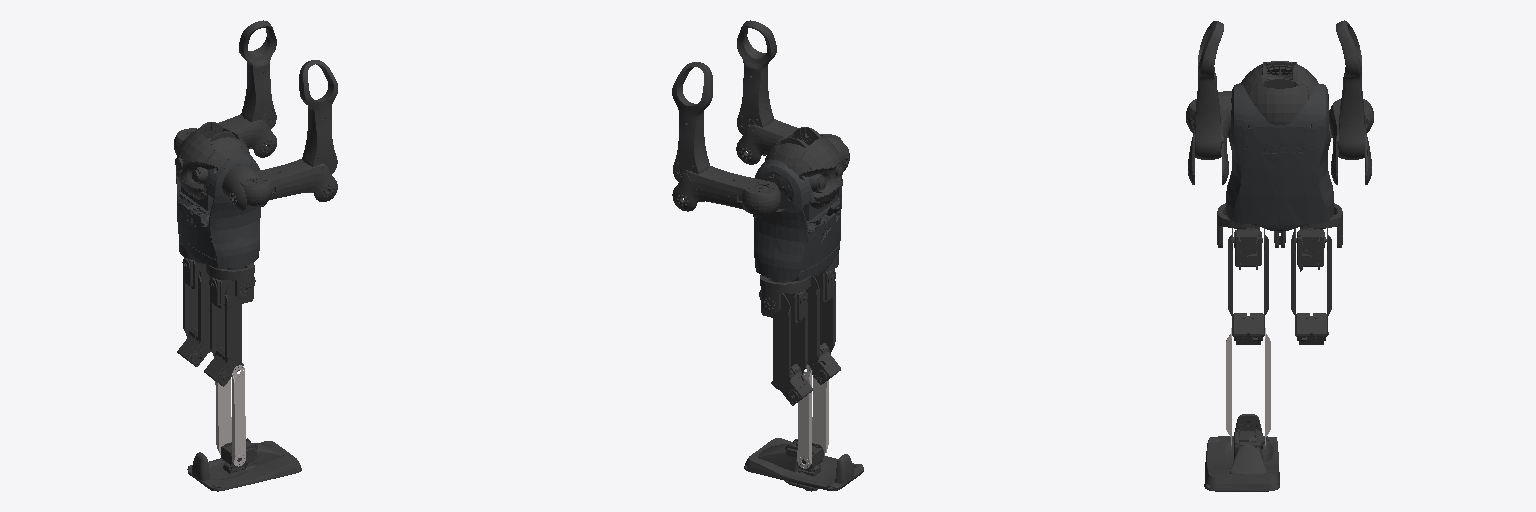
The robot description file, URDF, robot "onshape":
<robot name="onshape">
<link name="torso">
<visual>
<origin xyz="0 0 0" rpy="0 -0 0" />
<geometry>
<mesh filename="torso_visual.stl"/>
</geometry>
<material name="torso_material">
<color rgba="0.277513 0.284814 0.292115 1.0"/>
</material>
</visual>
<collision>
<origin xyz="0 0 0" rpy="0 -0 0" />
<geometry>
<mesh filename="torso_collision.stl"/>
</geometry>
<material name="torso_material">
<color rgba="0.5 0.5 0.5 1.0"/>
</material>
</collision>
<inertial>
<origin xyz="-0.000640019 -4.78299e-05 0.106034" rpy="0 0 0"/>
<mass value="2.92465" />
<inertia ixx="0.018013" ixy="-1.32888e-06"  ixz="-0.00120893" iyy="0.0153572" iyz="-3.07782e-07" izz="0.00887623" />
</inertial>
</link>

<link name="left_hip_yaw">
<visual>
<origin xyz="0 0 0" rpy="0 -0 0" />
<geometry>
<mesh filename="left_hip_yaw_visual.stl"/>
</geometry>
<material name="left_hip_yaw_material">
<color rgba="0.286275 0.286275 0.286275 1.0"/>
</material>
</visual>
<collision>
<origin xyz="0 0 0" rpy="0 -0 0" />
<geometry>
<mesh filename="left_hip_yaw_collision.stl"/>
</geometry>
<material name="left_hip_yaw_material">
<color rgba="0.5 0.5 0.5 1.0"/>
</material>
</collision>
<inertial>
<origin xyz="0.00894798 -0.0021828 -0.0247563" rpy="0 0 0"/>
<mass value="0.0594023" />
<inertia ixx="0.000103641" ixy="1.01414e-07"  ixz="-1.50388e-06" iyy="5.24124e-05" iyz="-4.66978e-07" izz="0.000118627" />
</inertial>
</link>

<link name="left_hip_roll">
<visual>
<origin xyz="0 0 0" rpy="0 -0 0" />
<geometry>
<mesh filename="left_hip_roll_visual.stl"/>
</geometry>
<material name="left_hip_roll_material">
<color rgba="0.286275 0.286275 0.286275 1.0"/>
</material>
</visual>
<collision>
<origin xyz="0 0 0" rpy="0 -0 0" />
<geometry>
<mesh filename="left_hip_roll_collision.stl"/>
</geometry>
<material name="left_hip_roll_material">
<color rgba="0.5 0.5 0.5 1.0"/>
</material>
</collision>
<inertial>
<origin xyz="0.015733 -0.000686158 -0.0217073" rpy="0 0 0"/>
<mass value="0.395953" />
<inertia ixx="0.000292243" ixy="2.4268e-06"  ixz="-2.43432e-06" iyy="0.000355995" iyz="5.61134e-06" izz="0.000169652" />
</inertial>
</link>

<link name="left_upper_leg">
<visual>
<origin xyz="0 0 0" rpy="0 -0 0" />
<geometry>
<mesh filename="left_upper_leg_visual.stl"/>
</geometry>
<material name="left_upper_leg_material">
<color rgba="0.286275 0.286275 0.286275 1.0"/>
</material>
</visual>
<collision>
<origin xyz="0 0 0" rpy="0 -0 0" />
<geometry>
<mesh filename="left_upper_leg_collision.stl"/>
</geometry>
<material name="left_upper_leg_material">
<color rgba="0.5 0.5 0.5 1.0"/>
</material>
</collision>
<inertial>
<origin xyz="0.184283 0.0137441 0.000560875" rpy="0 0 0"/>
<mass value="0.164996" />
<inertia ixx="5.7507e-05" ixy="-1.69983e-05"  ixz="-1.58256e-06" iyy="6.53622e-05" iyz="-1.26445e-06" izz="6.23689e-05" />
</inertial>
</link>

<link name="left_lower_leg">
<visual>
<origin xyz="0 0 0" rpy="0 -0 0" />
<geometry>
<mesh filename="left_lower_leg_visual.stl"/>
</geometry>
<material name="left_lower_leg_material">
<color rgba="0.737255 0.721569 0.717647 1.0"/>
</material>
</visual>
<collision>
<origin xyz="0 0 0" rpy="0 -0 0" />
<geometry>
<mesh filename="left_lower_leg_collision.stl"/>
</geometry>
<material name="left_lower_leg_material">
<color rgba="0.5 0.5 0.5 1.0"/>
</material>
</collision>
<inertial>
<origin xyz="0.1001 0.00388186 -1.61259e-08" rpy="0 0 0"/>
<mass value="0.0893011" />
<inertia ixx="9.01254e-05" ixy="1.57184e-09"  ixz="-7.87158e-11" iyy="0.000408951" iyz="1.16101e-11" izz="0.0003363" />
</inertial>
</link>

<link name="left_ankle">
<visual>
<origin xyz="0 0 0" rpy="0 -0 0" />
<geometry>
<mesh filename="left_ankle_visual.stl"/>
</geometry>
<material name="left_ankle_material">
<color rgba="0.286275 0.286275 0.286275 1.0"/>
</material>
</visual>
<collision>
<origin xyz="0 0 0" rpy="0 -0 0" />
<geometry>
<mesh filename="left_ankle_collision.stl"/>
</geometry>
<material name="left_ankle_material">
<color rgba="0.5 0.5 0.5 1.0"/>
</material>
</collision>
<inertial>
<origin xyz="0.0219762 0.015733 0.000512596" rpy="0 0 0"/>
<mass value="0.329993" />
<inertia ixx="0.000141335" ixy="2.0288e-06"  ixz="3.69044e-06" iyy="0.000247382" iyz="-2.02253e-06" izz="0.000300569" />
</inertial>
</link>

<link name="left_foot">
<visual>
<origin xyz="0 0 0" rpy="0 -0 0" />
<geometry>
<mesh filename="left_foot_visual.stl"/>
</geometry>
<material name="left_foot_material">
<color rgba="0.286275 0.286275 0.286275 1.0"/>
</material>
</visual>
<collision>
<origin xyz="0 0 0" rpy="0 -0 0" />
<geometry>
<mesh filename="left_foot_collision.stl"/>
</geometry>
<material name="left_foot_material">
<color rgba="0.5 0.5 0.5 1.0"/>
</material>
</collision>
<inertial>
<origin xyz="0.0248226 0.00798542 0.033284" rpy="0 0 0"/>
<mass value="0.245581" />
<inertia ixx="0.00134722" ixy="-9.73697e-06"  ixz="2.7382e-08" iyy="0.00108383" iyz="-1.34065e-05" izz="0.000332029" />
</inertial>
</link>

<link name="left_foot_base">
<visual>
<origin xyz="0 0 0" rpy="0 -0 0" />
<geometry>
<mesh filename="left_foot_base_visual.stl"/>
</geometry>
<material name="left_foot_base_material">
<color rgba="0.5 0.5 0.5 1.0"/>
</material>
</visual>
<collision>
<origin xyz="0 0 0" rpy="0 -0 0" />
<geometry>
<mesh filename="left_foot_base_collision.stl"/>
</geometry>
<material name="left_foot_base_material">
<color rgba="0.5 0.5 0.5 1.0"/>
</material>
</collision>
<inertial>
<origin xyz="0 0 0" rpy="0 0 0"/>
<mass value="0" />
<inertia ixx="0" ixy="0"  ixz="0" iyy="0" iyz="0" izz="0" />
</inertial>
</link>

<joint name="left_foot_base" type="fixed">
<origin xyz="0.0360246 2.77556e-17 1.30104e-18" rpy="8.86985e-31 -1.5708 0" />
<parent link="left_foot" />
<child link="left_foot_base" />
<axis xyz="0 0 1"/>
<limit effort="1.5" velocity="22" />
<joint_properties friction="0.0"/>
</joint>

<joint name="left_ankle_roll" type="revolute">
<origin xyz="4.34742e-09 4.58116e-10 -3.08702e-09" rpy="1.5708 3.11019e-14 -1.5708" />
<parent link="left_ankle" />
<child link="left_foot" />
<axis xyz="0 0 1"/>
<limit effort="1.5" velocity="22" lower="-3.14159" upper="3.14159"/>
<joint_properties friction="0.0"/>
</joint>

<joint name="left_ankle_pitch" type="revolute">
<origin xyz="0.200203 -3.25261e-17 2.27963e-09" rpy="4.2823e-15 8.25556e-15 1.5708" />
<parent link="left_lower_leg" />
<child link="left_ankle" />
<axis xyz="0 0 1"/>
<limit effort="1.5" velocity="22" lower="-3.14159" upper="3.14159"/>
<joint_properties friction="0.0"/>
</joint>

<joint name="left_knee_pitch" type="revolute">
<origin xyz="0.196593 0.023541 -4.85723e-17" rpy="-2.39295e-17 2.00368e-15 -0.00872665" />
<parent link="left_upper_leg" />
<child link="left_lower_leg" />
<axis xyz="0 0 1"/>
<limit effort="1.5" velocity="22" lower="-3.14159" upper="3.14159"/>
<joint_properties friction="0.0"/>
</joint>

<joint name="left_hip_pitch" type="revolute">
<origin xyz="0 1.38778e-17 6.93889e-18" rpy="-1.5708 -9.99201e-16 9.62078e-15" />
<parent link="left_hip_roll" />
<child link="left_upper_leg" />
<axis xyz="0 0 1"/>
<limit effort="1.5" velocity="22" lower="-3.14159" upper="3.14159"/>
<joint_properties friction="0.0"/>
</joint>

<joint name="left_hip_roll" type="revolute">
<origin xyz="6.93889e-18 0.0221332 -0.0545" rpy="-1.5708 1.5708 0" />
<parent link="left_hip_yaw" />
<child link="left_hip_roll" />
<axis xyz="0 0 1"/>
<limit effort="1.5" velocity="22" lower="-3.14159" upper="3.14159"/>
<joint_properties friction="0.0"/>
</joint>

<joint name="left_hip_yaw" type="revolute">
<origin xyz="0 0.055 0" rpy="1.00616e-25 -1.69834e-26 -1.5708" />
<parent link="torso" />
<child link="left_hip_yaw" />
<axis xyz="0 0 1"/>
<limit effort="1.5" velocity="22" lower="-3.14159" upper="3.14159"/>
<joint_properties friction="0.0"/>
</joint>

<link name="right_hip_yaw">
<visual>
<origin xyz="0 0 0" rpy="0 -0 0" />
<geometry>
<mesh filename="right_hip_yaw_visual.stl"/>
</geometry>
<material name="right_hip_yaw_material">
<color rgba="0.286275 0.286275 0.286275 1.0"/>
</material>
</visual>
<collision>
<origin xyz="0 0 0" rpy="0 -0 0" />
<geometry>
<mesh filename="right_hip_yaw_collision.stl"/>
</geometry>
<material name="right_hip_yaw_material">
<color rgba="0.5 0.5 0.5 1.0"/>
</material>
</collision>
<inertial>
<origin xyz="0.0089479 0.00218277 -0.0247564" rpy="0 0 0"/>
<mass value="0.0594022" />
<inertia ixx="0.000103641" ixy="-1.01073e-07"  ixz="-1.50417e-06" iyy="5.24117e-05" iyz="4.67163e-07" izz="0.000118626" />
</inertial>
</link>

<link name="right_hip_roll">
<visual>
<origin xyz="0 0 0" rpy="0 -0 0" />
<geometry>
<mesh filename="right_hip_roll_visual.stl"/>
</geometry>
<material name="right_hip_roll_material">
<color rgba="0.286275 0.286275 0.286275 1.0"/>
</material>
</visual>
<collision>
<origin xyz="0 0 0" rpy="0 -0 0" />
<geometry>
<mesh filename="right_hip_roll_collision.stl"/>
</geometry>
<material name="right_hip_roll_material">
<color rgba="0.5 0.5 0.5 1.0"/>
</material>
</collision>
<inertial>
<origin xyz="0.015733 -0.000232251 -0.0218286" rpy="0 0 0"/>
<mass value="0.395953" />
<inertia ixx="0.000294312" ixy="-2.43432e-06"  ixz="-2.4268e-06" iyy="0.000358213" iyz="1.97634e-06" izz="0.000169504" />
</inertial>
</link>

<link name="right_upper_leg">
<visual>
<origin xyz="0 0 0" rpy="0 -0 0" />
<geometry>
<mesh filename="right_upper_leg_visual.stl"/>
</geometry>
<material name="right_upper_leg_material">
<color rgba="0.286275 0.286275 0.286275 1.0"/>
</material>
</visual>
<collision>
<origin xyz="0 0 0" rpy="0 -0 0" />
<geometry>
<mesh filename="right_upper_leg_collision.stl"/>
</geometry>
<material name="right_upper_leg_material">
<color rgba="0.5 0.5 0.5 1.0"/>
</material>
</collision>
<inertial>
<origin xyz="0.184283 0.0137441 0.00101087" rpy="0 0 0"/>
<mass value="0.164996" />
<inertia ixx="5.7507e-05" ixy="-1.69983e-05"  ixz="-1.58256e-06" iyy="6.53622e-05" iyz="-1.26445e-06" izz="6.23689e-05" />
</inertial>
</link>

<link name="right_lower_leg">
<visual>
<origin xyz="0 0 0" rpy="0 -0 0" />
<geometry>
<mesh filename="right_lower_leg_visual.stl"/>
</geometry>
<material name="right_lower_leg_material">
<color rgba="0.737255 0.721569 0.717647 1.0"/>
</material>
</visual>
<collision>
<origin xyz="0 0 0" rpy="0 -0 0" />
<geometry>
<mesh filename="right_lower_leg_collision.stl"/>
</geometry>
<material name="right_lower_leg_material">
<color rgba="0.5 0.5 0.5 1.0"/>
</material>
</collision>
<inertial>
<origin xyz="0.100103 0.00388186 1.61259e-08" rpy="0 0 0"/>
<mass value="0.0893011" />
<inertia ixx="9.01254e-05" ixy="-1.57184e-09"  ixz="-7.87158e-11" iyy="0.000408951" iyz="-1.16101e-11" izz="0.0003363" />
</inertial>
</link>

<link name="right_ankle">
<visual>
<origin xyz="0 0 0" rpy="0 -0 0" />
<geometry>
<mesh filename="right_ankle_visual.stl"/>
</geometry>
<material name="right_ankle_material">
<color rgba="0.286275 0.286275 0.286275 1.0"/>
</material>
</visual>
<collision>
<origin xyz="0 0 0" rpy="0 -0 0" />
<geometry>
<mesh filename="right_ankle_collision.stl"/>
</geometry>
<material name="right_ankle_material">
<color rgba="0.5 0.5 0.5 1.0"/>
</material>
</collision>
<inertial>
<origin xyz="0.0219762 -0.015733 -0.000512596" rpy="0 0 0"/>
<mass value="0.329993" />
<inertia ixx="0.000141335" ixy="-2.0288e-06"  ixz="-3.69044e-06" iyy="0.000247382" iyz="-2.02253e-06" izz="0.000300569" />
</inertial>
</link>

<link name="right_foot">
<visual>
<origin xyz="0 0 0" rpy="0 -0 0" />
<geometry>
<mesh filename="right_foot_visual.stl"/>
</geometry>
<material name="right_foot_material">
<color rgba="0.286275 0.286275 0.286275 1.0"/>
</material>
</visual>
<collision>
<origin xyz="0 0 0" rpy="0 -0 0" />
<geometry>
<mesh filename="right_foot_collision.stl"/>
</geometry>
<material name="right_foot_material">
<color rgba="0.5 0.5 0.5 1.0"/>
</material>
</collision>
<inertial>
<origin xyz="0.024823 -0.00798676 0.0332808" rpy="0 0 0"/>
<mass value="0.245567" />
<inertia ixx="0.00134712" ixy="9.73589e-06"  ixz="2.22656e-08" iyy="0.00108376" iyz="1.34039e-05" izz="0.000331997" />
</inertial>
</link>

<link name="right_foot_base">
<visual>
<origin xyz="0 0 0" rpy="0 -0 0" />
<geometry>
<mesh filename="right_foot_base_visual.stl"/>
</geometry>
<material name="right_foot_base_material">
<color rgba="0.5 0.5 0.5 1.0"/>
</material>
</visual>
<collision>
<origin xyz="0 0 0" rpy="0 -0 0" />
<geometry>
<mesh filename="right_foot_base_collision.stl"/>
</geometry>
<material name="right_foot_base_material">
<color rgba="0.5 0.5 0.5 1.0"/>
</material>
</collision>
<inertial>
<origin xyz="0 0 0" rpy="0 0 0"/>
<mass value="0" />
<inertia ixx="0" ixy="0"  ixz="0" iyy="0" iyz="0" izz="0" />
</inertial>
</link>

<joint name="right_foot_base" type="fixed">
<origin xyz="0.0360246 1.38778e-17 6.93889e-18" rpy="1.91535e-30 -1.5708 0" />
<parent link="right_foot" />
<child link="right_foot_base" />
<axis xyz="0 0 1"/>
<limit effort="1.5" velocity="22" />
<joint_properties friction="0.0"/>
</joint>

<joint name="right_ankle_roll" type="revolute">
<origin xyz="4.34741e-09 -4.58126e-10 3.08702e-09" rpy="-1.5708 -1.2536e-14 1.5708" />
<parent link="right_ankle" />
<child link="right_foot" />
<axis xyz="0 0 1"/>
<limit effort="1.5" velocity="22" lower="-3.14159" upper="3.14159"/>
<joint_properties friction="0.0"/>
</joint>

<joint name="right_ankle_pitch" type="revolute">
<origin xyz="0.200203 3.29597e-17 2.27963e-09" rpy="3.14159 1.13004e-15 1.5708" />
<parent link="right_lower_leg" />
<child link="right_ankle" />
<axis xyz="0 0 1"/>
<limit effort="1.5" velocity="22" lower="-3.14159" upper="3.14159"/>
<joint_properties friction="0.0"/>
</joint>

<joint name="right_knee_pitch" type="revolute">
<origin xyz="0.196593 0.023541 1.38778e-17" rpy="-4.42135e-16 -4.47956e-16 -0.00872665" />
<parent link="right_upper_leg" />
<child link="right_lower_leg" />
<axis xyz="0 0 1"/>
<limit effort="1.5" velocity="22" lower="-3.14159" upper="3.14159"/>
<joint_properties friction="0.0"/>
</joint>

<joint name="right_hip_pitch" type="revolute">
<origin xyz="-2.08167e-17 -6.93889e-18 6.93889e-18" rpy="-1.5708 -3.91904e-27 -2.30022e-27" />
<parent link="right_hip_roll" />
<child link="right_upper_leg" />
<axis xyz="0 0 1"/>
<limit effort="1.5" velocity="22" lower="-3.14159" upper="3.14159"/>
<joint_properties friction="0.0"/>
</joint>

<joint name="right_hip_roll" type="revolute">
<origin xyz="6.93889e-18 -0.0221332 -0.0545" rpy="1.5708 1.5708 0" />
<parent link="right_hip_yaw" />
<child link="right_hip_roll" />
<axis xyz="0 0 1"/>
<limit effort="1.5" velocity="22" lower="-3.14159" upper="3.14159"/>
<joint_properties friction="0.0"/>
</joint>

<joint name="right_hip_yaw" type="revolute">
<origin xyz="-6.93889e-18 -0.055 -5.55112e-17" rpy="1.56194e-28 1.0176e-28 1.5708" />
<parent link="torso" />
<child link="right_hip_yaw" />
<axis xyz="0 0 1"/>
<limit effort="1.5" velocity="22" lower="-3.14159" upper="3.14159"/>
<joint_properties friction="0.0"/>
</joint>

<link name="neck">
<visual>
<origin xyz="0 0 0" rpy="0 -0 0" />
<geometry>
<mesh filename="neck_visual.stl"/>
</geometry>
<material name="neck_material">
<color rgba="0.5 0.5 0.5 1.0"/>
</material>
</visual>
<collision>
<origin xyz="0 0 0" rpy="0 -0 0" />
<geometry>
<mesh filename="neck_collision.stl"/>
</geometry>
<material name="neck_material">
<color rgba="0.5 0.5 0.5 1.0"/>
</material>
</collision>
<inertial>
<origin xyz="0 0 0" rpy="0 0 0"/>
<mass value="0" />
<inertia ixx="0" ixy="0"  ixz="0" iyy="0" iyz="0" izz="0" />
</inertial>
</link>

<link name="head">
<visual>
<origin xyz="0 0 0" rpy="0 -0 0" />
<geometry>
<mesh filename="head_visual.stl"/>
</geometry>
<material name="head_material">
<color rgba="0.281665 0.281665 0.281665 1.0"/>
</material>
</visual>
<collision>
<origin xyz="0 0 0" rpy="0 -0 0" />
<geometry>
<mesh filename="head_collision.stl"/>
</geometry>
<material name="head_material">
<color rgba="0.5 0.5 0.5 1.0"/>
</material>
</collision>
<inertial>
<origin xyz="0.0665563 0.0103216 -0.000100617" rpy="0 0 0"/>
<mass value="0.473503" />
<inertia ixx="0.00156824" ixy="-1.24129e-06"  ixz="7.78879e-08" iyy="0.00150101" iyz="2.93297e-07" izz="0.00142701" />
</inertial>
</link>

<joint name="neck_pitch" type="revolute">
<origin xyz="-0.00024471 0.000255294 -0.0481" rpy="6.12323e-17 1.5708 0" />
<parent link="neck" />
<child link="head" />
<axis xyz="0 0 1"/>
<limit effort="1.5" velocity="22" lower="-3.14159" upper="3.14159"/>
<joint_properties friction="0.0"/>
</joint>

<joint name="neck_yaw" type="revolute">
<origin xyz="-0.008 2.36302e-16 0.20825" rpy="3.14159 -2.77556e-16 1.5708" />
<parent link="torso" />
<child link="neck" />
<axis xyz="0 0 1"/>
<limit effort="1.5" velocity="22" lower="-3.14159" upper="3.14159"/>
<joint_properties friction="0.0"/>
</joint>

<link name="left_shoulder">
<visual>
<origin xyz="0 0 0" rpy="0 -0 0" />
<geometry>
<mesh filename="left_shoulder_visual.stl"/>
</geometry>
<material name="left_shoulder_material">
<color rgba="0.286275 0.286275 0.286275 1.0"/>
</material>
</visual>
<collision>
<origin xyz="0 0 0" rpy="0 -0 0" />
<geometry>
<mesh filename="left_shoulder_collision.stl"/>
</geometry>
<material name="left_shoulder_material">
<color rgba="0.5 0.5 0.5 1.0"/>
</material>
</collision>
<inertial>
<origin xyz="-0.00254925 -3.61374e-05 -0.0287427" rpy="0 0 0"/>
<mass value="0.0845502" />
<inertia ixx="9.74311e-05" ixy="-1.04146e-07"  ixz="-3.99116e-06" iyy="7.30295e-05" iyz="7.55192e-08" izz="9.33613e-05" />
</inertial>
</link>

<link name="left_upper_arm">
<visual>
<origin xyz="0 0 0" rpy="0 -0 0" />
<geometry>
<mesh filename="left_upper_arm_visual.stl"/>
</geometry>
<material name="left_upper_arm_material">
<color rgba="0.286275 0.286275 0.286275 1.0"/>
</material>
</visual>
<collision>
<origin xyz="0 0 0" rpy="0 -0 0" />
<geometry>
<mesh filename="left_upper_arm_collision.stl"/>
</geometry>
<material name="left_upper_arm_material">
<color rgba="0.5 0.5 0.5 1.0"/>
</material>
</collision>
<inertial>
<origin xyz="0.0836585 -0.000830413 0.000118056" rpy="0 0 0"/>
<mass value="0.13422" />
<inertia ixx="0.000118663" ixy="-6.96625e-06"  ixz="4.55279e-06" iyy="0.000601868" iyz="2.59592e-07" izz="0.000622538" />
</inertial>
</link>

<link name="left_lower_arm">
<visual>
<origin xyz="0 0 0" rpy="0 -0 0" />
<geometry>
<mesh filename="left_lower_arm_visual.stl"/>
</geometry>
<material name="left_lower_arm_material">
<color rgba="0.286275 0.286275 0.286275 1.0"/>
</material>
</visual>
<collision>
<origin xyz="0 0 0" rpy="0 -0 0" />
<geometry>
<mesh filename="left_lower_arm_collision.stl"/>
</geometry>
<material name="left_lower_arm_material">
<color rgba="0.5 0.5 0.5 1.0"/>
</material>
</collision>
<inertial>
<origin xyz="0.0509966 -0.000605553 6.9181e-05" rpy="0 0 0"/>
<mass value="0.287325" />
<inertia ixx="0.000111748" ixy="2.15259e-05"  ixz="8.66393e-06" iyy="0.00116741" iyz="-9.9785e-07" izz="0.00119364" />
</inertial>
</link>

<joint name="left_elbow_pitch" type="revolute">
<origin xyz="0.1575 5.57465e-05 -0.02695" rpy="1.5708 -7.49418e-30 -2.00673e-14" />
<parent link="left_upper_arm" />
<child link="left_lower_arm" />
<axis xyz="0 0 1"/>
<limit effort="1.5" velocity="22" lower="-3.14159" upper="3.14159"/>
<joint_properties friction="0.0"/>
</joint>

<joint name="left_shoulder_yaw" type="revolute">
<origin xyz="-0.0100012 0 -0.0479124" rpy="1.5708 -1.93145e-15 -3.14159" />
<parent link="left_shoulder" />
<child link="left_upper_arm" />
<axis xyz="0 0 1"/>
<limit effort="1.5" velocity="22" lower="-3.14159" upper="3.14159"/>
<joint_properties friction="0.0"/>
</joint>

<joint name="left_shoulder_pitch" type="revolute">
<origin xyz="-2.0498e-17 0.077 0.17725" rpy="-1.5708 1.07261e-15 -3.14159" />
<parent link="torso" />
<child link="left_shoulder" />
<axis xyz="0 0 1"/>
<limit effort="1.5" velocity="22" lower="-3.14159" upper="3.14159"/>
<joint_properties friction="0.0"/>
</joint>

<link name="right_shoulder">
<visual>
<origin xyz="0 0 0" rpy="0 -0 0" />
<geometry>
<mesh filename="right_shoulder_visual.stl"/>
</geometry>
<material name="right_shoulder_material">
<color rgba="0.286275 0.286275 0.286275 1.0"/>
</material>
</visual>
<collision>
<origin xyz="0 0 0" rpy="0 -0 0" />
<geometry>
<mesh filename="right_shoulder_collision.stl"/>
</geometry>
<material name="right_shoulder_material">
<color rgba="0.5 0.5 0.5 1.0"/>
</material>
</collision>
<inertial>
<origin xyz="-0.00254925 3.46247e-05 -0.0287427" rpy="0 0 0"/>
<mass value="0.0845501" />
<inertia ixx="9.74312e-05" ixy="1.04639e-07"  ixz="-3.99136e-06" iyy="7.30296e-05" iyz="-7.5393e-08" izz="9.33615e-05" />
</inertial>
</link>

<link name="right_upper_arm">
<visual>
<origin xyz="0 0 0" rpy="0 -0 0" />
<geometry>
<mesh filename="right_upper_arm_visual.stl"/>
</geometry>
<material name="right_upper_arm_material">
<color rgba="0.286275 0.286275 0.286275 1.0"/>
</material>
</visual>
<collision>
<origin xyz="0 0 0" rpy="0 -0 0" />
<geometry>
<mesh filename="right_upper_arm_collision.stl"/>
</geometry>
<material name="right_upper_arm_material">
<color rgba="0.5 0.5 0.5 1.0"/>
</material>
</collision>
<inertial>
<origin xyz="0.0836544 0.000827717 -0.000126203" rpy="0 0 0"/>
<mass value="0.134208" />
<inertia ixx="0.000118638" ixy="6.97341e-06"  ixz="3.88658e-06" iyy="0.000601814" iyz="-2.8542e-07" izz="0.000622501" />
</inertial>
</link>

<link name="right_lower_arm">
<visual>
<origin xyz="0 0 0" rpy="0 -0 0" />
<geometry>
<mesh filename="right_lower_arm_visual.stl"/>
</geometry>
<material name="right_lower_arm_material">
<color rgba="0.286275 0.286275 0.286275 1.0"/>
</material>
</visual>
<collision>
<origin xyz="0 0 0" rpy="0 -0 0" />
<geometry>
<mesh filename="right_lower_arm_collision.stl"/>
</geometry>
<material name="right_lower_arm_material">
<color rgba="0.5 0.5 0.5 1.0"/>
</material>
</collision>
<inertial>
<origin xyz="0.0510002 -0.00060488 -6.85101e-05" rpy="0 0 0"/>
<mass value="0.28735" />
<inertia ixx="0.000111766" ixy="2.16283e-05"  ixz="-8.6992e-06" iyy="0.00116763" iyz="1.00494e-06" izz="0.00119387" />
</inertial>
</link>

<joint name="right_elbow_pitch" type="revolute">
<origin xyz="0.1575 -5.57465e-05 -0.02695" rpy="1.5708 4.09672e-14 -1.50852e-14" />
<parent link="right_upper_arm" />
<child link="right_lower_arm" />
<axis xyz="0 0 1"/>
<limit effort="1.5" velocity="22" lower="-3.14159" upper="3.14159"/>
<joint_properties friction="0.0"/>
</joint>

<joint name="right_shoulder_yaw" type="revolute">
<origin xyz="-0.0100012 2.77556e-17 -0.0479124" rpy="-1.5708 -3.12007e-15 3.14159" />
<parent link="right_shoulder" />
<child link="right_upper_arm" />
<axis xyz="0 0 1"/>
<limit effort="1.5" velocity="22" lower="-3.14159" upper="3.14159"/>
<joint_properties friction="0.0"/>
</joint>

<joint name="right_shoulder_pitch" type="revolute">
<origin xyz="-3.8548e-17 -0.077 0.17725" rpy="1.5708 -5.87966e-17 -3.14159" />
<parent link="torso" />
<child link="right_shoulder" />
<axis xyz="0 0 1"/>
<limit effort="1.5" velocity="22" lower="-3.14159" upper="3.14159"/>
<joint_properties friction="0.0"/>
</joint>


</robot>

--- Render facts (derived) ---
3 views of the same robot in one strip: view 1: azimuth 30°, elevation 25°; view 2: azimuth 150°, elevation 25°; view 3: azimuth 270°, elevation 25° (orthographic).
Robot: onshape — 23 links, 22 joints (20 revolute, 2 fixed); root link torso; default pose: every joint at zero.
Links seen in each view (by area): view 1: torso, head, right_foot, right_upper_arm, right_upper_leg, right_lower_arm, left_lower_arm, right_lower_leg, left_upper_leg, left_upper_arm, right_shoulder, right_hip_yaw (+2 smaller); view 2: torso, left_upper_arm, head, left_upper_leg, right_foot, left_lower_arm, right_lower_arm, right_upper_leg, right_lower_leg, right_upper_arm, left_hip_yaw, right_ankle (+1 smaller); view 3: torso, right_foot, head, left_lower_arm, right_lower_arm, left_upper_leg, right_upper_leg, right_lower_leg, left_upper_arm, left_hip_roll, right_hip_roll, right_upper_arm (+2 smaller).
Boxes of the visible links, left/top/right/bottom form: torso: left=176, top=138, right=260, bottom=268; head: left=175, top=122, right=249, bottom=199; right_foot: left=187, top=441, right=301, bottom=491; right_upper_arm: left=240, top=159, right=337, bottom=205; right_upper_leg: left=204, top=276, right=255, bottom=386; right_lower_arm: left=299, top=60, right=337, bottom=173; left_lower_arm: left=239, top=20, right=276, bottom=128; right_lower_leg: left=215, top=365, right=245, bottom=466; left_upper_leg: left=177, top=264, right=211, bottom=366; left_upper_arm: left=174, top=114, right=276, bottom=157; right_shoulder: left=222, top=165, right=266, bottom=211; right_hip_yaw: left=206, top=262, right=254, bottom=298; torso: left=753, top=144, right=842, bottom=281; left_upper_arm: left=672, top=166, right=780, bottom=214; head: left=765, top=127, right=843, bottom=208; left_upper_leg: left=759, top=289, right=812, bottom=405; right_foot: left=744, top=438, right=863, bottom=490; left_lower_arm: left=672, top=62, right=712, bottom=181; right_lower_arm: left=737, top=20, right=776, bottom=134; right_upper_leg: left=805, top=276, right=840, bottom=384; right_lower_leg: left=797, top=364, right=828, bottom=468; right_upper_arm: left=736, top=119, right=843, bottom=164; left_hip_yaw: left=760, top=275, right=810, bottom=312; right_ankle: left=785, top=439, right=823, bottom=491; torso: left=1226, top=76, right=1333, bottom=230; right_foot: left=1204, top=414, right=1279, bottom=491; head: left=1241, top=61, right=1318, bottom=125; left_lower_arm: left=1336, top=20, right=1364, bottom=159; right_lower_arm: left=1195, top=21, right=1223, bottom=159; left_upper_leg: left=1291, top=228, right=1331, bottom=344; right_upper_leg: left=1228, top=228, right=1268, bottom=344; right_lower_leg: left=1226, top=328, right=1270, bottom=448; left_upper_arm: left=1329, top=99, right=1373, bottom=184; left_hip_roll: left=1296, top=227, right=1326, bottom=271; right_hip_roll: left=1231, top=227, right=1262, bottom=269; right_upper_arm: left=1186, top=99, right=1229, bottom=184.
Size in the robot's own frame: 0.2962 by 0.3289 by 0.9543 metres.
19 mesh visuals loaded from 23 distinct referenced files (19 binary STL); not drawn: 4 (reference not matched to a file when rendering).